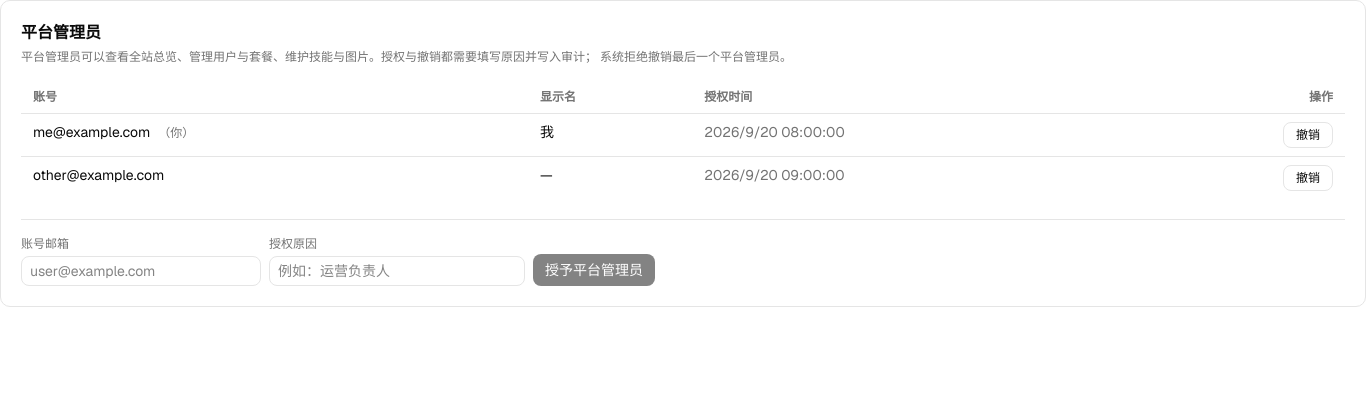
it: admin access section › keeps the last-admin refusal visible and the row intact
Click the button "撤销" in the row of "me@example.com" at point(1308, 135), box [1283,122,1333,148]
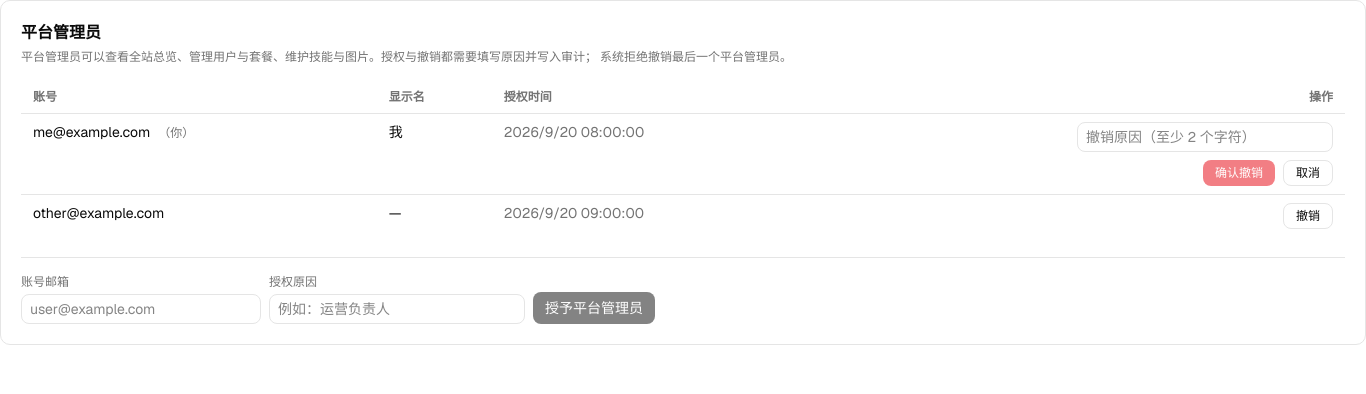
Type "交接" into the field named "撤销 me@example.com 的原因" at point(1205, 137), box [1077,122,1333,152]
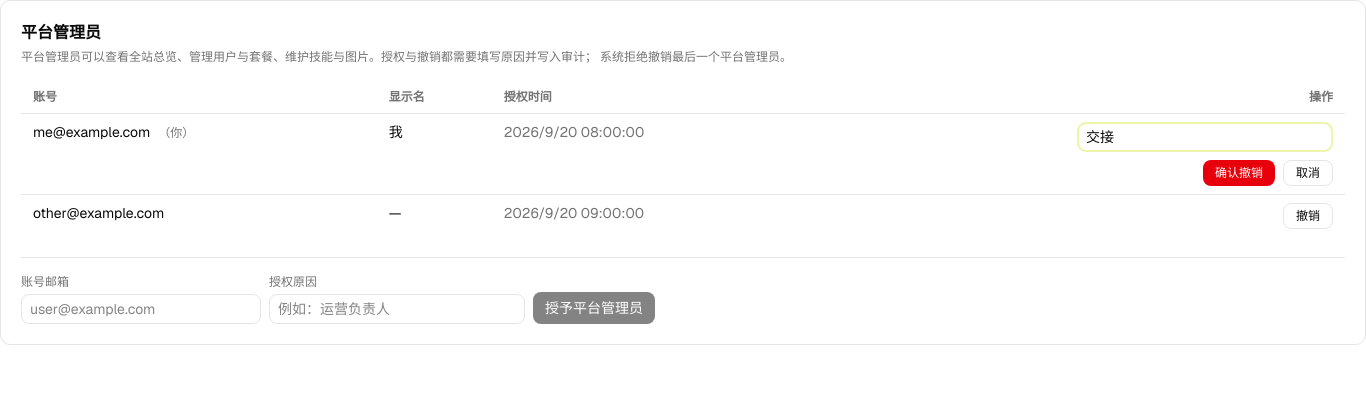
Click the button "确认撤销" at point(1239, 173), box [1203,160,1275,186]
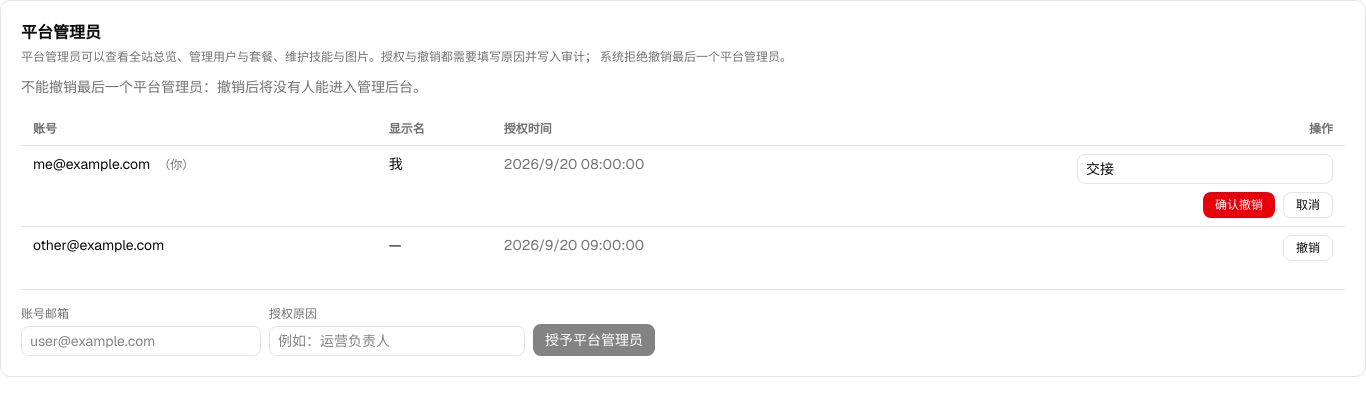
Expected: the text "me@example.com" is shown, [33,155,150,173]
Now the text with test id "admin-access-feedback" shows "不能撤销最后一个平台管理员", box [21,78,427,96]
